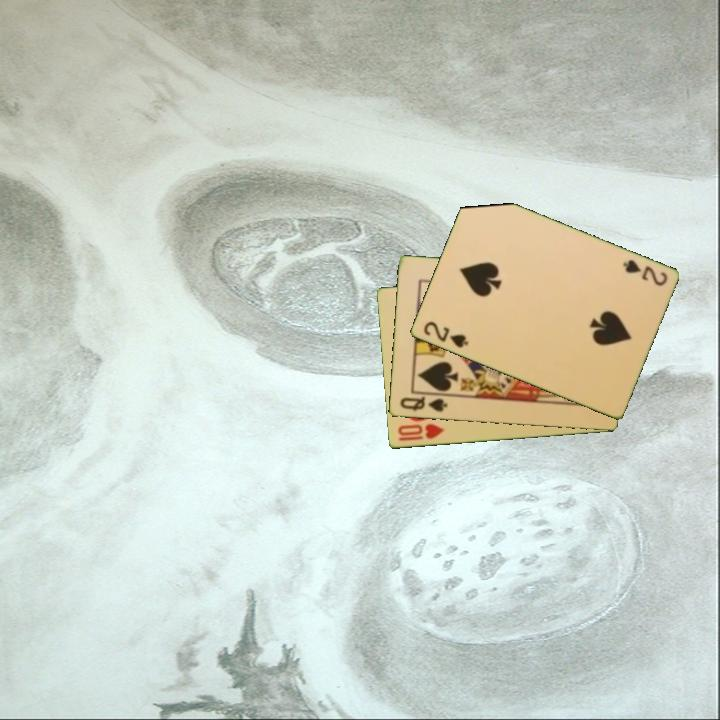10h: (394, 421, 447, 444)
2s: (420, 318, 471, 351), (619, 256, 670, 289)
Qs: (396, 393, 450, 415)
